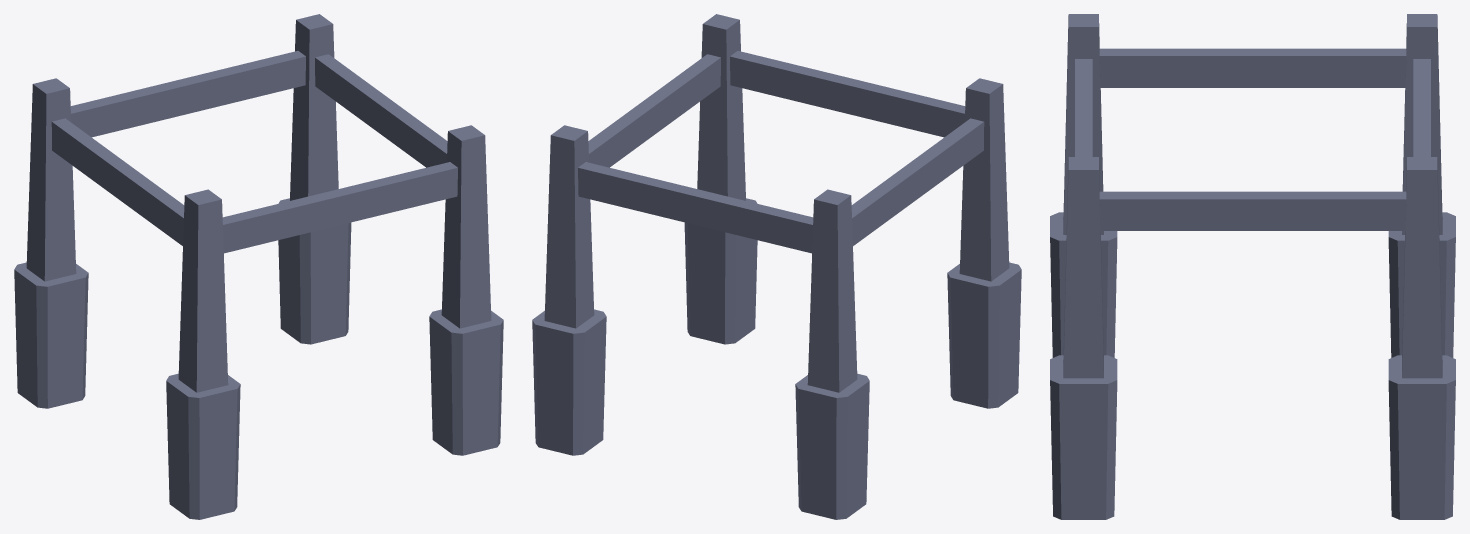
File: structure-metal.obj
3 views of the same model, side by side, from view 1: azimuth 30°, elevation 25°; view 2: azimuth 150°, elevation 25°; view 3: azimuth 270°, elevation 25° (orthographic). The views are drawn at different scales.
Bounding box in the file's own units: 0.5354 × 0.5 × 0.5354.
